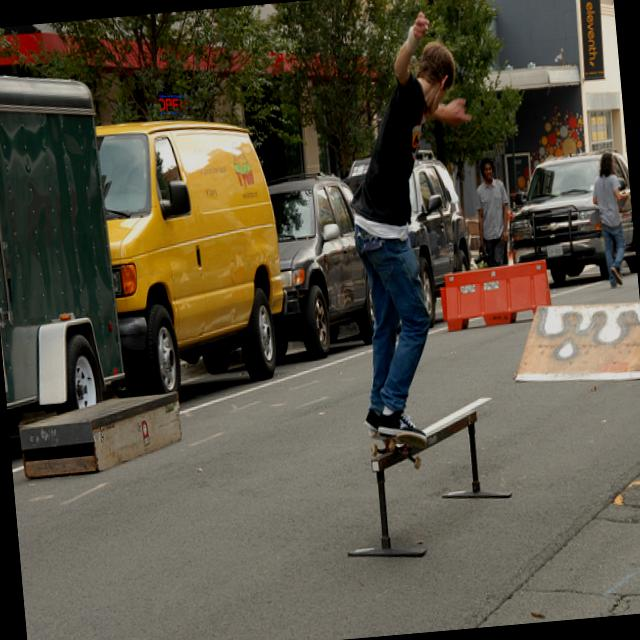Vehicle: (95, 108, 291, 403), (0, 65, 129, 445), (268, 170, 374, 361), (503, 149, 637, 288), (406, 158, 480, 298)
